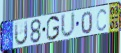0: (80, 10, 94, 35)
8: (29, 18, 42, 45)
C: (96, 8, 107, 32)
G: (46, 15, 60, 42)
U: (60, 11, 76, 39), (13, 19, 29, 47)
